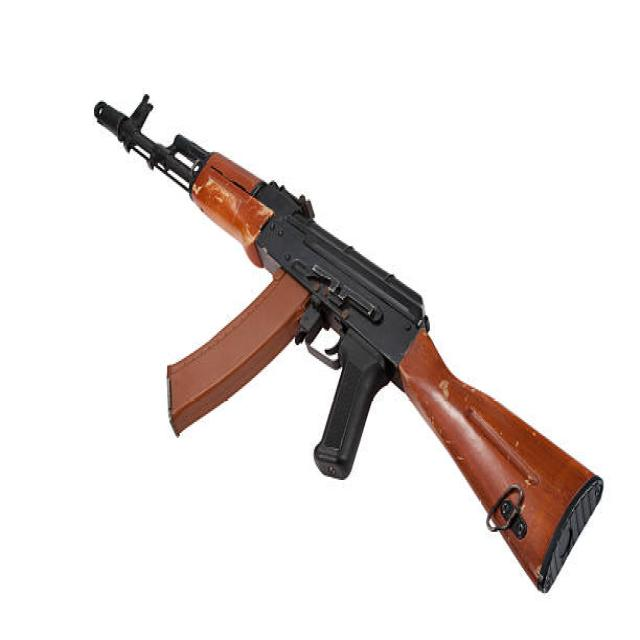rifle: (91, 91, 612, 597)
